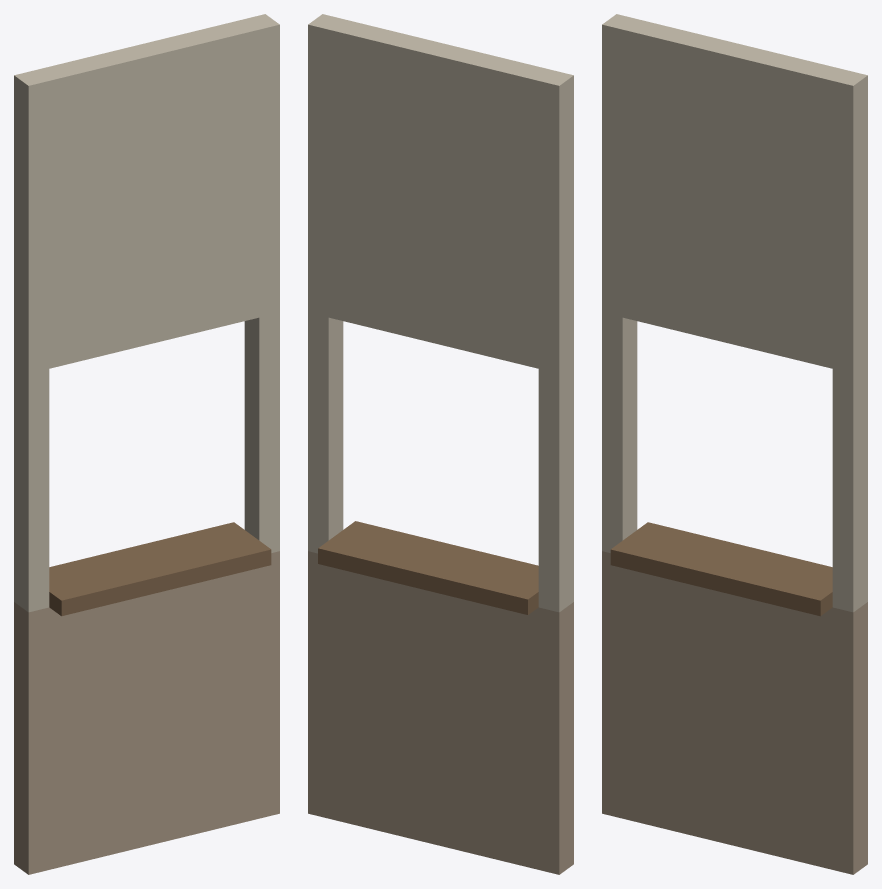
The model's file is Mesh_Wall2Colors_A2.fbx.
3 renders of one model, left to right at view 1: azimuth 30°, elevation 25°; view 2: azimuth 150°, elevation 25°; view 3: azimuth 330°, elevation 25°, orthographic.
Visible parts, largest first — view 1: Mesh_Wall2Colors_A2; view 2: Mesh_Wall2Colors_A2; view 3: Mesh_Wall2Colors_A2.
Boxes of the visible parts, x1,y1,x2,y2 form: Mesh_Wall2Colors_A2: [14, 14, 279, 874]; Mesh_Wall2Colors_A2: [308, 14, 573, 874]; Mesh_Wall2Colors_A2: [602, 14, 867, 874].
Size of the model in its own units: 1 by 3 by 0.2574.
